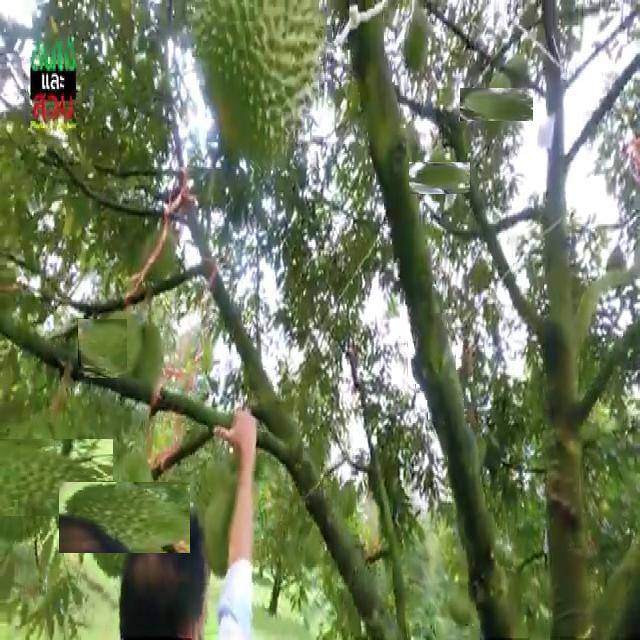durian: (188, 0, 330, 168), (0, 421, 96, 533), (74, 467, 175, 568), (200, 471, 258, 583), (82, 314, 150, 382), (127, 319, 167, 404), (470, 78, 524, 131), (416, 155, 463, 201), (403, 10, 432, 74)
